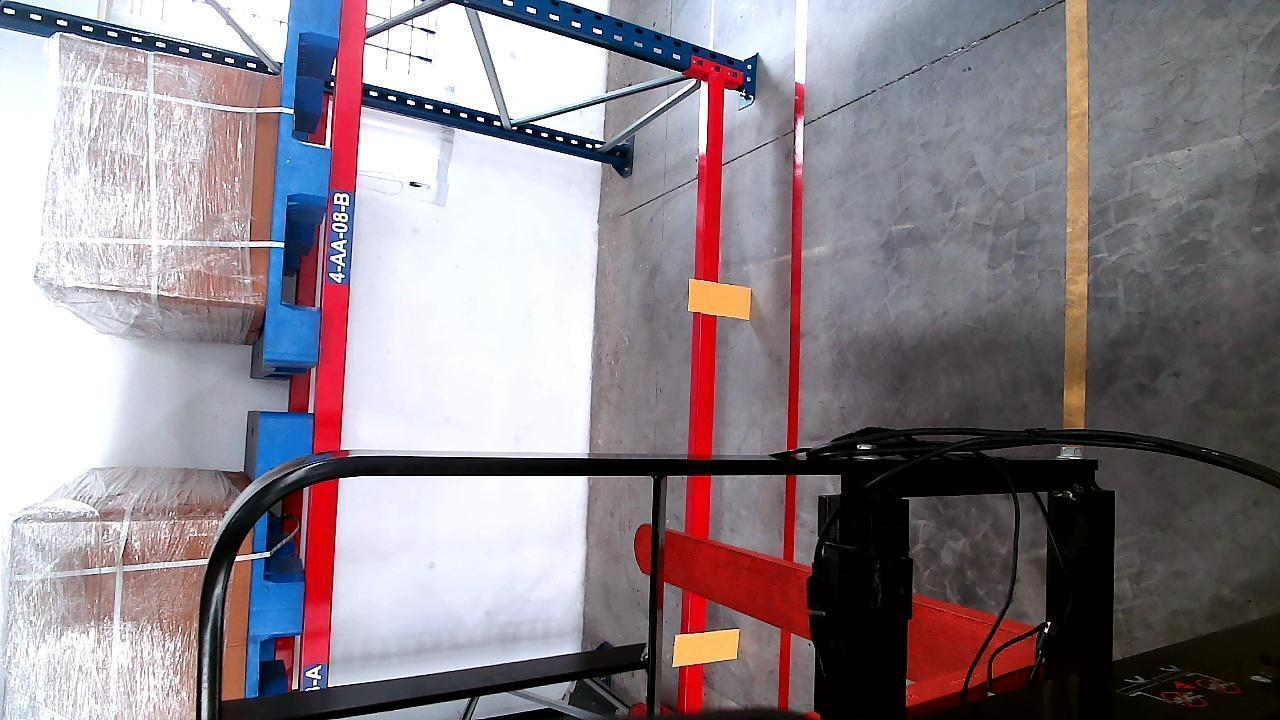red_line: (780, 1, 810, 717)
yellow_line: (1065, 0, 1091, 434)
